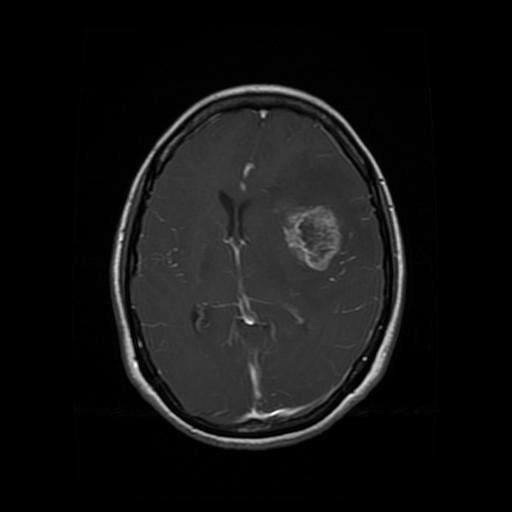Tumour-Glioma: (272, 193, 348, 270)
